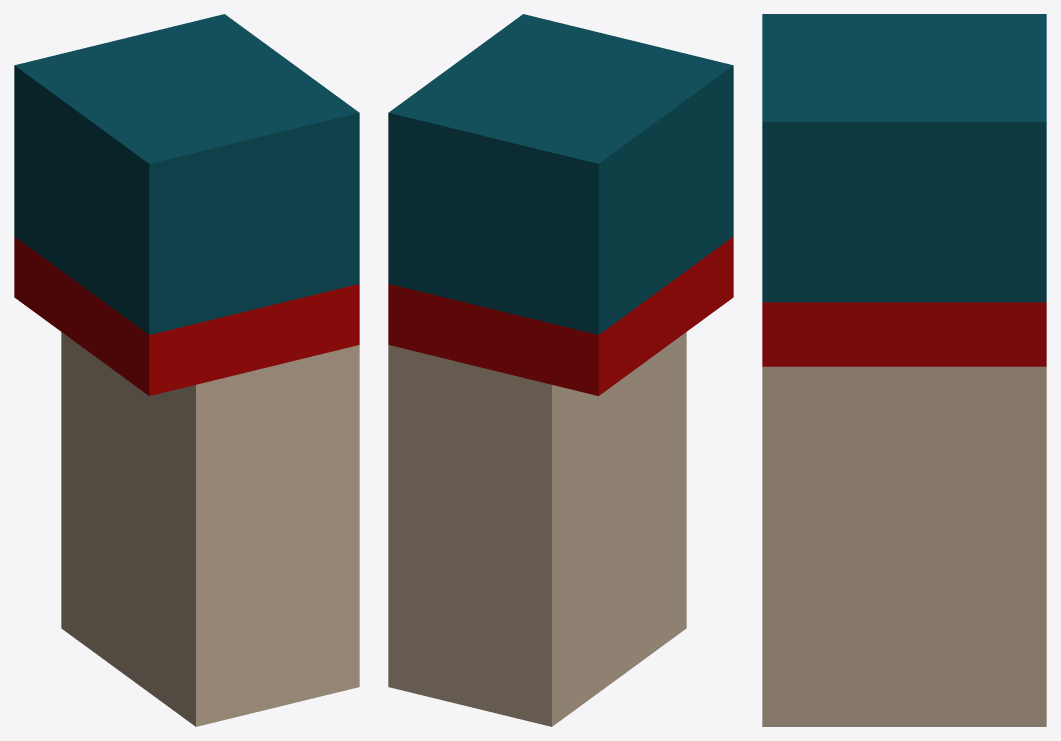
The model's file is officeman-3.obj.
3 renders of one model, left to right at view 1: azimuth 30°, elevation 25°; view 2: azimuth 150°, elevation 25°; view 3: azimuth 270°, elevation 25°, orthographic. The views are drawn at different scales.
Size of the model in its own units: 1.8 by 4.7 by 2.
Materials: 1 (1 with a texture image).
